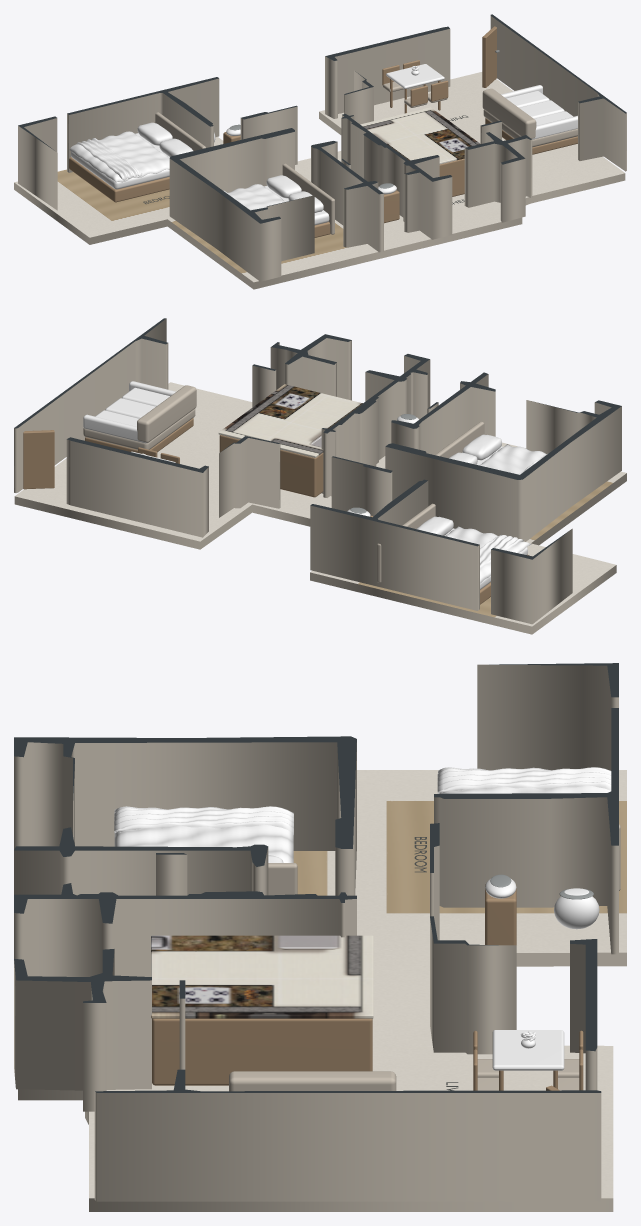
The model's file is coral-group-unit-06.glb.
3 renders of one model, top to bottom at view 1: azimuth 30°, elevation 25°; view 2: azimuth 150°, elevation 25°; view 3: azimuth 270°, elevation 25°, orthographic. The views are drawn at different scales.
Parts seen in each view (by area): view 1: Partition walls, Apartment floor, Stone worktop, Draped bed linen.002, Sofa back, Walnut upholstered base.001, Draped bed linen.003, Draped bed linen, Upholstered headboard, Marble dining top, Piped mattress.001, Open oak door (+11 smaller); view 2: Partition walls, Apartment floor, Stone worktop, Kitchen cabinets, Open oak door, Sofa back, Draped bed linen, Upholstered sofa frame, Draped bed linen.002, Padded armrest.001, Tailored pillow, Upholstered headboard (+6 smaller); view 3: Partition walls, Apartment floor, Stone worktop, Kitchen cabinets, Draped bed linen, Draped bed linen.001, Draped bed linen.003, Sofa back, Marble dining top, Vanity cabinet.001, Vitreous china bowl.001, Draped bed linen.002 (+1 smaller).
Boxes of the visible parts, x1=… form: Partition walls: x1=18, y1=14, x2=626, y2=281; Apartment floor: x1=14, y1=72, x2=625, y2=289; Stone worktop: x1=360, y1=107, x2=480, y2=164; Draped bed linen.002: x1=69, y1=131, x2=169, y2=182; Sofa back: x1=482, y1=88, x2=536, y2=138; Walnut upholstered base.001: x1=69, y1=157, x2=169, y2=202; Draped bed linen.003: x1=77, y1=138, x2=141, y2=180; Draped bed linen: x1=227, y1=184, x2=285, y2=210; Upholstered headboard: x1=282, y1=163, x2=334, y2=234; Marble dining top: x1=386, y1=64, x2=444, y2=88; Piped mattress.001: x1=71, y1=133, x2=169, y2=189; Open oak door: x1=482, y1=26, x2=496, y2=87; Partition walls: x1=14, y1=318, x2=621, y2=624; Apartment floor: x1=14, y1=382, x2=626, y2=634; Stone worktop: x1=218, y1=384, x2=362, y2=457; Kitchen cabinets: x1=219, y1=435, x2=323, y2=497; Open oak door: x1=23, y1=430, x2=54, y2=489; Sofa back: x1=137, y1=385, x2=196, y2=442; Draped bed linen: x1=479, y1=444, x2=546, y2=474; Upholstered sofa frame: x1=83, y1=409, x2=195, y2=449; Draped bed linen.002: x1=445, y1=526, x2=531, y2=583; Padded armrest.001: x1=83, y1=414, x2=147, y2=443; Tailored pillow: x1=462, y1=434, x2=501, y2=460; Upholstered headboard: x1=435, y1=421, x2=484, y2=458; Partition walls: x1=14, y1=663, x2=618, y2=1201; Apartment floor: x1=18, y1=770, x2=626, y2=1211; Stone worktop: x1=151, y1=935, x2=373, y2=1018; Kitchen cabinets: x1=152, y1=1018, x2=372, y2=1085; Draped bed linen: x1=114, y1=806, x2=293, y2=862; Draped bed linen.001: x1=114, y1=806, x2=293, y2=834; Draped bed linen.003: x1=437, y1=767, x2=611, y2=793; Sofa back: x1=229, y1=1071, x2=396, y2=1091; Marble dining top: x1=492, y1=1030, x2=564, y2=1070; Vanity cabinet.001: x1=485, y1=884, x2=516, y2=945; Vitreous china bowl.001: x1=554, y1=896, x2=599, y2=929; Draped bed linen.002: x1=438, y1=767, x2=610, y2=793.
Size of the model in its own units: 10.89 by 1.44 by 6.54.
Materials: 12 (2 with a texture image).
